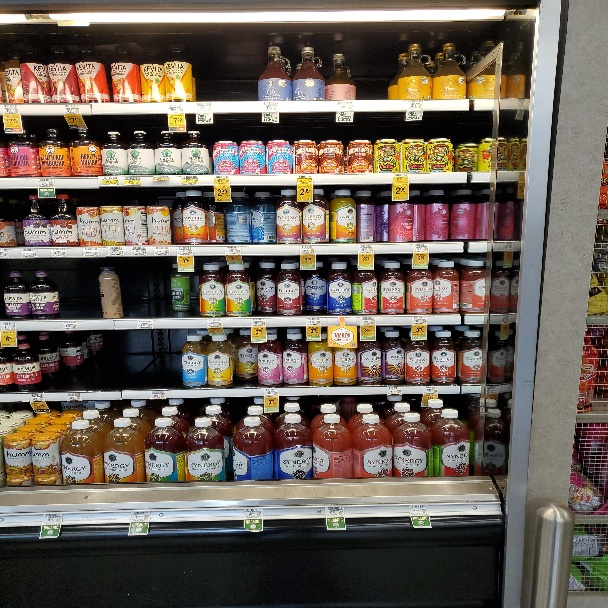All PRICE TAGS: (42, 514, 64, 525), (408, 505, 429, 515), (243, 508, 262, 519), (131, 511, 150, 522), (152, 246, 172, 256), (406, 99, 424, 110), (336, 101, 355, 111), (128, 246, 147, 256), (324, 507, 345, 516), (20, 248, 38, 258), (262, 101, 279, 111), (82, 248, 100, 257), (51, 249, 68, 258), (38, 179, 55, 188), (168, 103, 185, 112), (124, 176, 141, 185), (107, 247, 124, 256), (299, 245, 316, 254), (413, 243, 430, 252), (29, 393, 45, 402), (4, 105, 20, 114), (196, 102, 212, 111), (181, 176, 197, 185), (213, 176, 229, 185), (297, 175, 313, 184), (177, 246, 193, 255), (358, 244, 374, 253), (412, 316, 428, 325), (102, 177, 119, 185), (394, 174, 409, 183), (66, 393, 82, 401), (62, 322, 78, 330), (226, 246, 242, 254), (137, 320, 153, 328), (206, 319, 222, 327), (251, 318, 267, 326), (306, 318, 322, 326), (1, 322, 16, 330), (64, 105, 79, 113), (361, 317, 376, 325), (264, 388, 279, 396), (150, 391, 165, 398), (386, 387, 401, 394), (424, 387, 438, 393), (152, 176, 168, 180), (1, 249, 8, 258)
